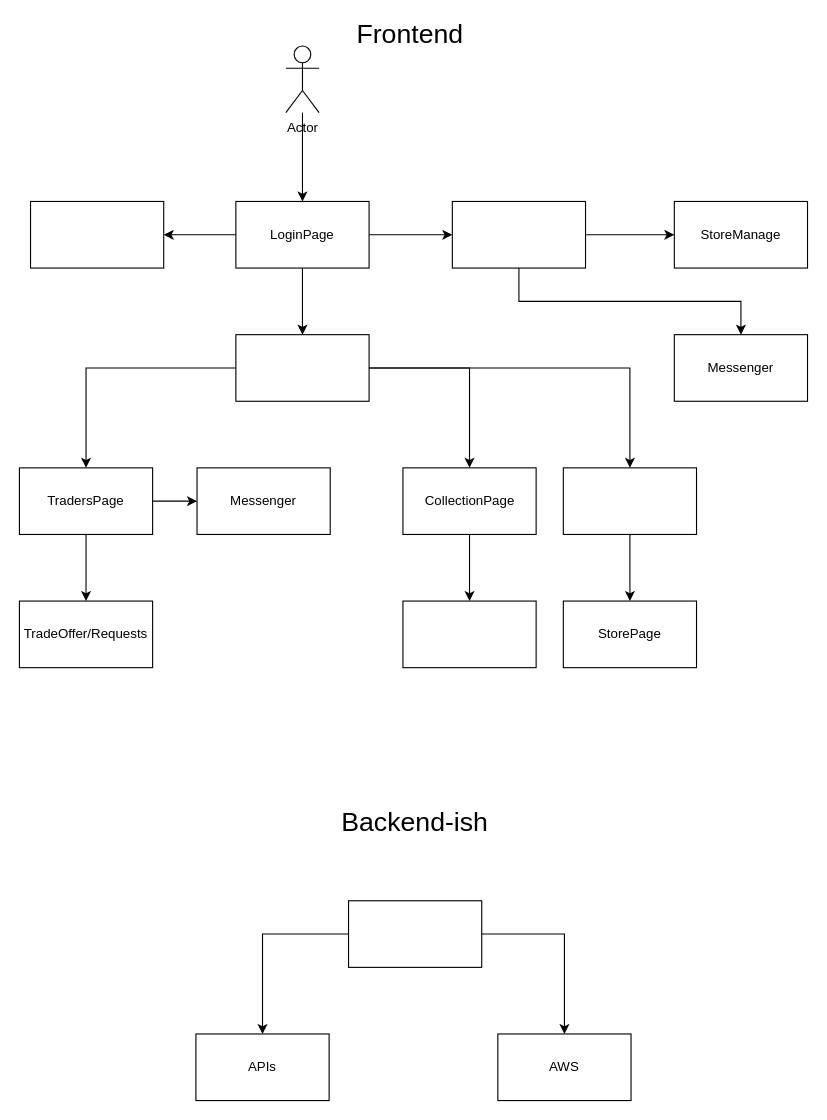
This 827x1120 diagram has some shape labels left out. Here are the shapes that lost their labels. From the top down, the box of each, then its label:
(29, 200, 164, 268): Register
(451, 200, 586, 268): StoreHome
(235, 334, 369, 401): HomePage
(562, 467, 697, 534): ViewStores
(402, 600, 536, 668): Edit Card
(347, 900, 482, 967): AxiosClient
